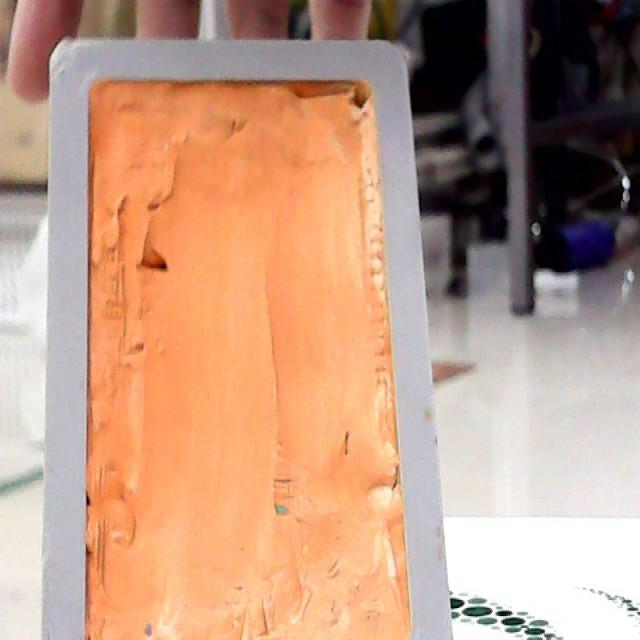block: (35, 34, 452, 640)
